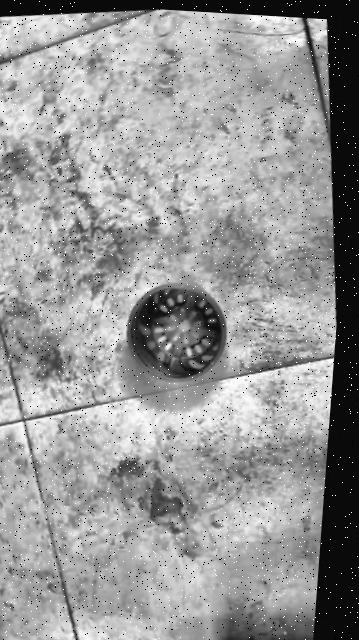pot: (118, 277, 235, 390)
